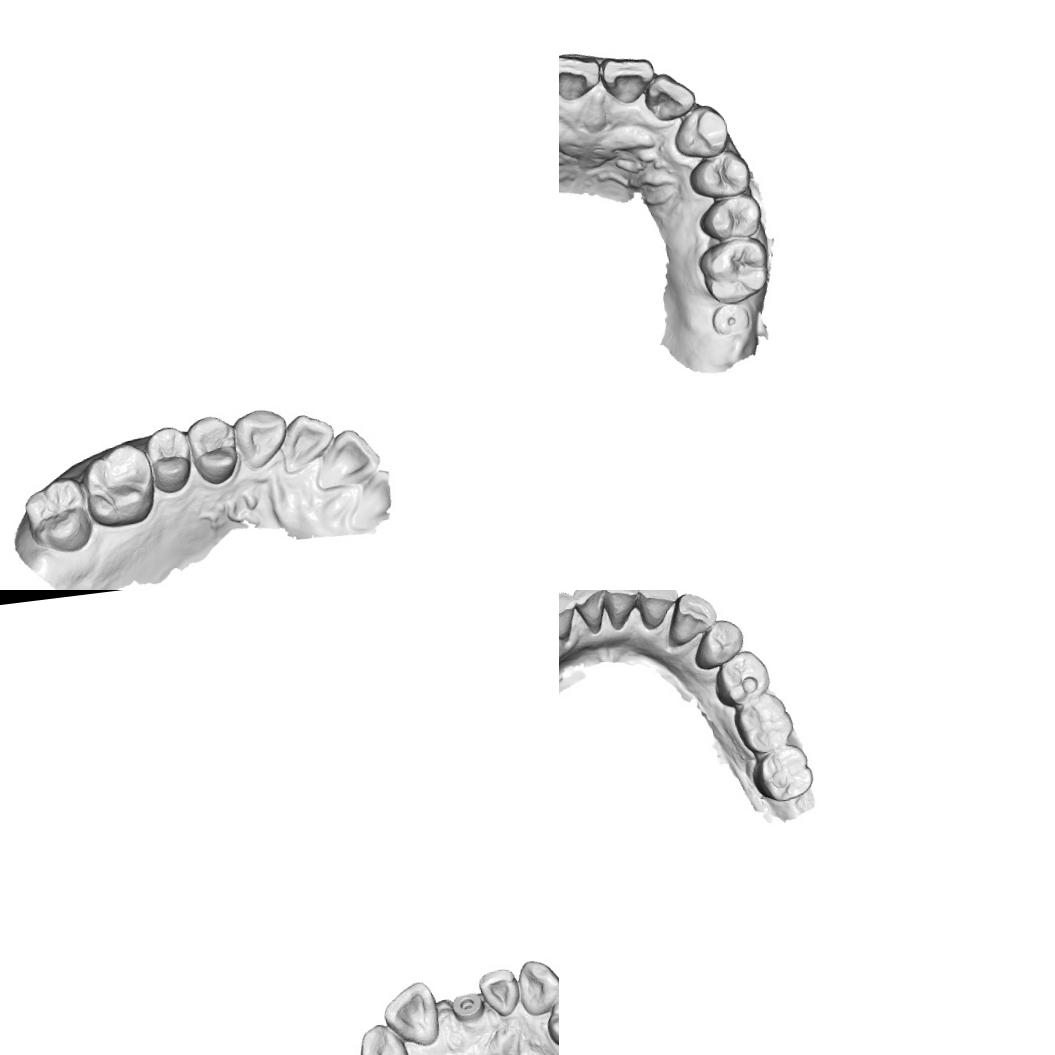canine: (228, 404, 295, 474), (670, 102, 731, 162), (662, 590, 720, 648), (515, 956, 559, 1017), (354, 1020, 412, 1055)
implant: (710, 301, 752, 339), (450, 991, 486, 1024)
incisor: (307, 424, 384, 493), (275, 408, 341, 478), (380, 978, 442, 1050), (598, 50, 659, 109), (642, 70, 698, 124), (476, 965, 522, 1019), (559, 49, 603, 103), (635, 590, 682, 631), (570, 590, 611, 637), (602, 590, 643, 632), (559, 590, 579, 643)
molar: (80, 438, 160, 532), (19, 472, 98, 558), (696, 235, 773, 307), (730, 689, 797, 757), (747, 740, 816, 806)
premolar: (182, 407, 242, 489), (141, 421, 196, 497), (710, 646, 773, 710), (684, 146, 753, 202), (695, 192, 764, 244), (688, 616, 748, 672), (543, 987, 559, 1049)
